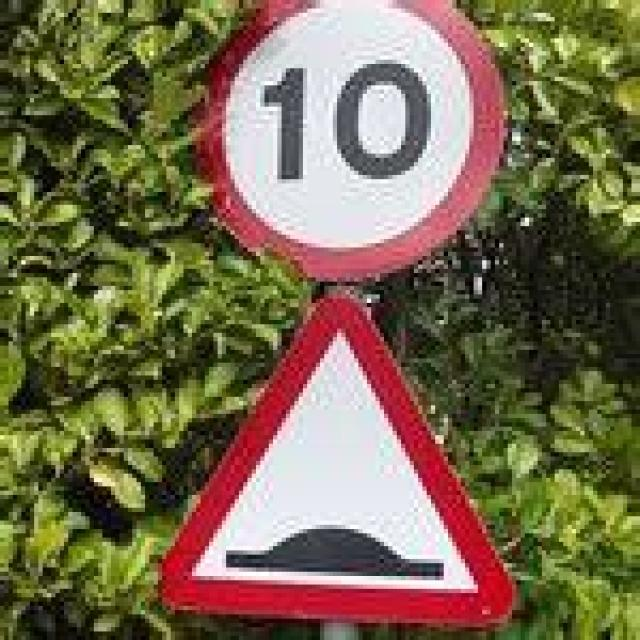Bump: (150, 301, 509, 610)
